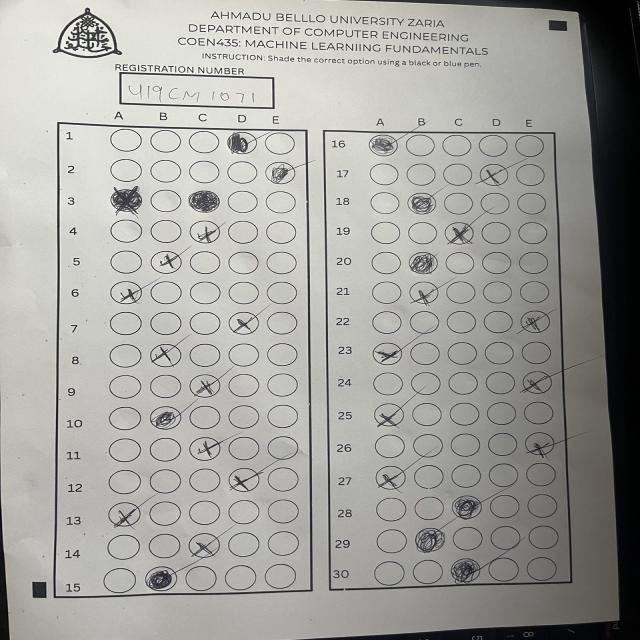bubble: (144, 566, 177, 592), (188, 532, 221, 558), (108, 502, 140, 528), (188, 436, 220, 462), (374, 402, 406, 428), (414, 528, 445, 554), (524, 432, 555, 458), (228, 468, 260, 493), (375, 465, 407, 490), (110, 280, 143, 304), (189, 220, 221, 244), (149, 406, 181, 430), (189, 374, 221, 398), (450, 558, 480, 583), (450, 495, 480, 520), (227, 131, 258, 155), (150, 250, 181, 274), (188, 190, 220, 213), (228, 311, 260, 334), (409, 280, 439, 304), (408, 252, 438, 275), (444, 222, 474, 245), (150, 344, 180, 367), (479, 163, 508, 186), (368, 134, 398, 156), (265, 162, 295, 184), (372, 342, 402, 364), (407, 193, 436, 215), (520, 310, 549, 332), (522, 371, 551, 393)
